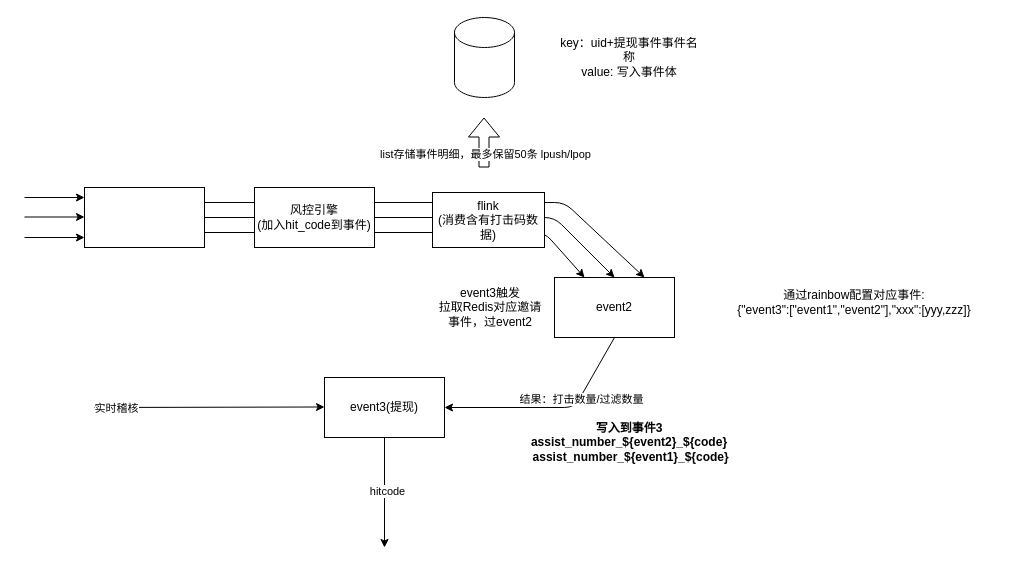
The diagram is 1012 pixels wide and 573 high, and some of its shapes have lost their labels. The shapes that lost their labels are listed below. From the top down, each one's box as (x1, y1, x2, y2) in pixels, then its label:
(454, 16, 514, 98): Redis
(84, 186, 204, 248): event1(邀请)
